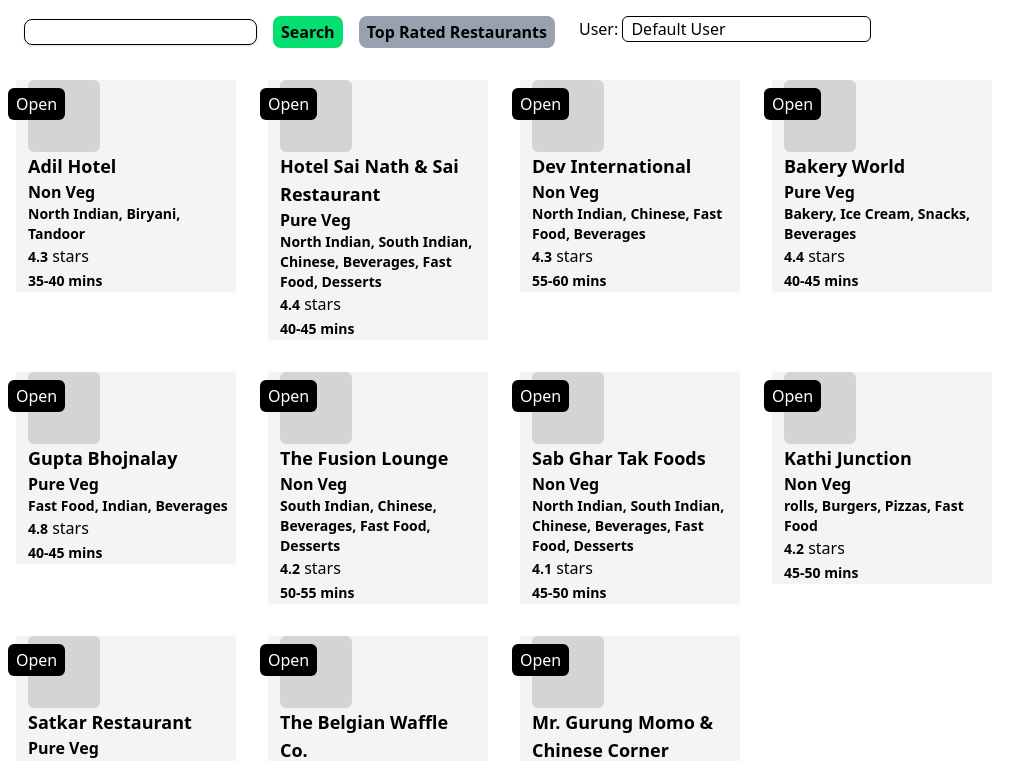
Test: should search the resCard listing with search input
Expected: the button "Search" is shown, [273,16,343,48]
Type "rest" into the field with test id "searchInput" at x=140, y=32, box [24,19,257,45]
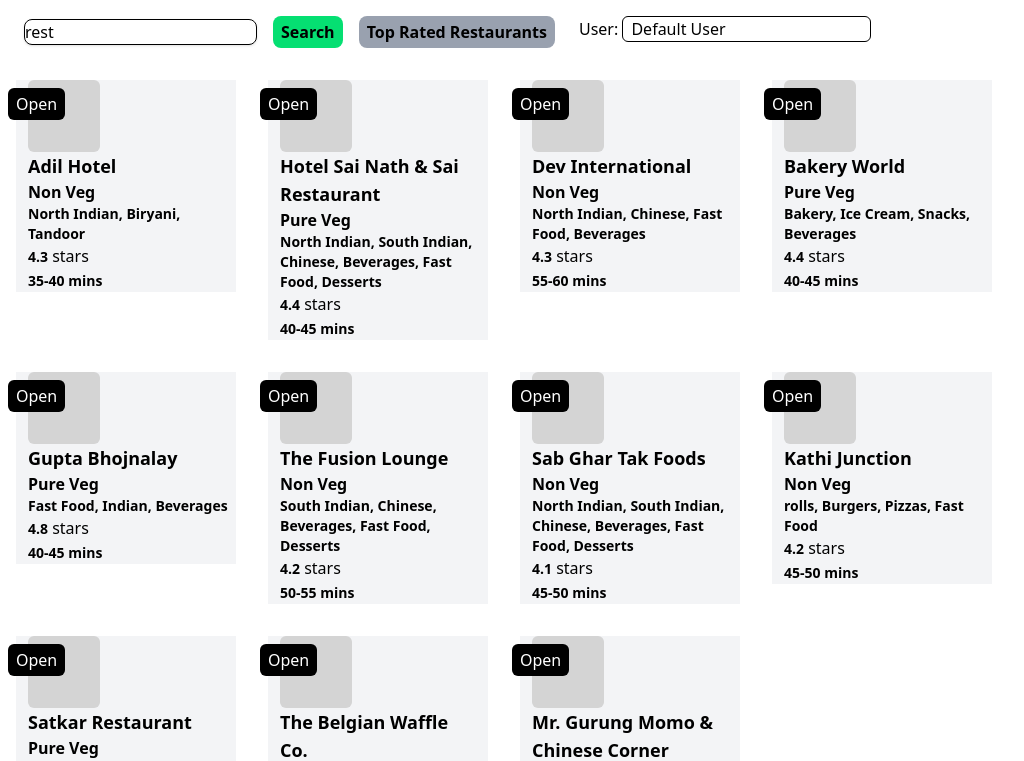
Click the button "Search" at x=308, y=32, box [273,16,343,48]
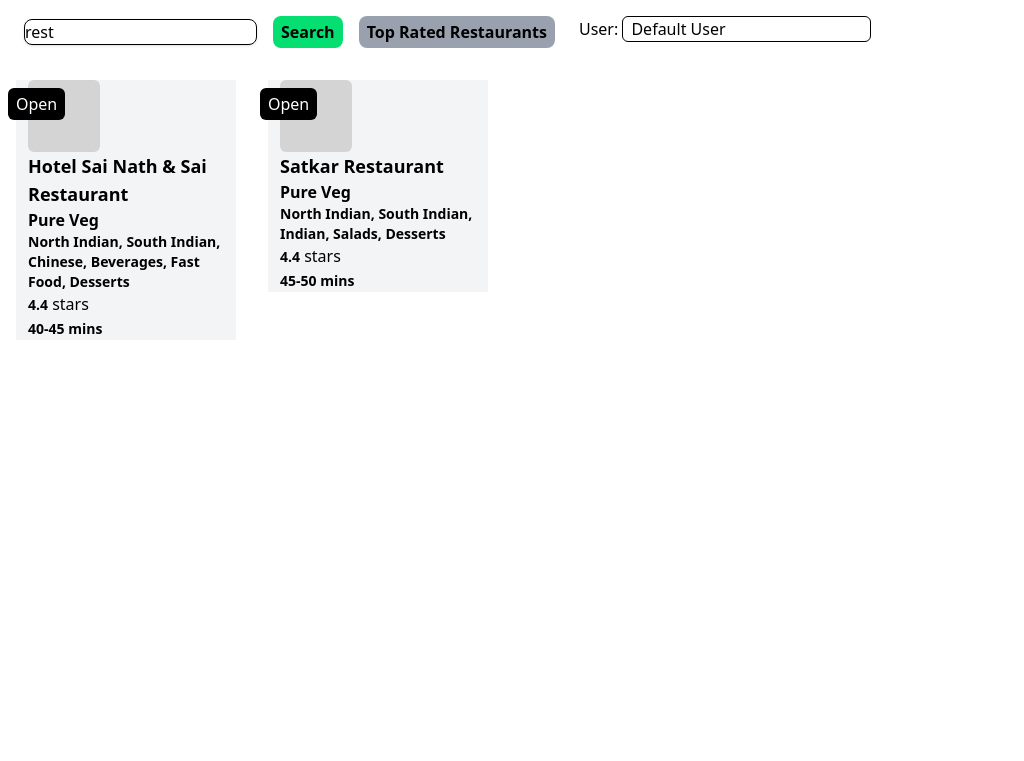
Now the number of elements with test id "resCard" is 2, box [16,80,236,340]; [268,80,488,292]
